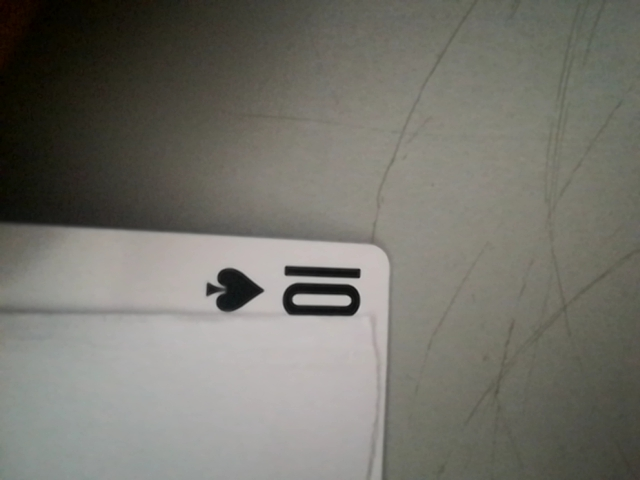ht 10: (190, 252, 380, 326)
